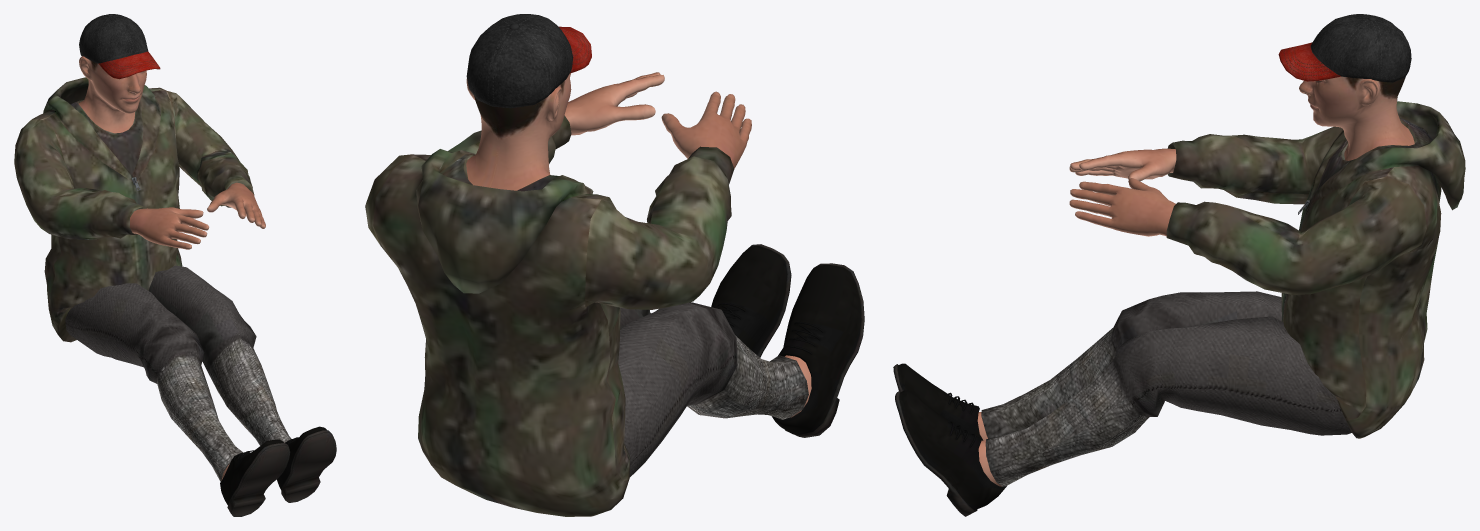
Rendered from dancarino.glb.
3 renders of one model, left to right at view 1: azimuth 30°, elevation 25°; view 2: azimuth 150°, elevation 25°; view 3: azimuth 270°, elevation 25°, orthographic. The views are drawn at different scales.
Visible parts, largest first — view 1: Corpo1, Corpo4, Corpo3, Corpo5, Corpo2; view 2: Corpo1, Corpo4, Corpo5, Corpo3, Corpo2; view 3: Corpo1, Corpo4, Corpo3, Corpo5, Corpo2.
Part boxes in pixels (x1,y1,x2,y2): Corpo1: (14, 77, 254, 342); Corpo4: (65, 265, 291, 481); Corpo3: (78, 56, 265, 480); Corpo5: (220, 426, 336, 516); Corpo2: (79, 14, 160, 79); Corpo1: (365, 115, 734, 516); Corpo4: (618, 302, 808, 477); Corpo5: (711, 244, 864, 437); Corpo3: (466, 72, 811, 417); Corpo2: (466, 14, 591, 108); Corpo1: (1166, 101, 1465, 438); Corpo4: (981, 291, 1351, 486); Corpo3: (977, 76, 1414, 486); Corpo5: (893, 363, 1006, 516); Corpo2: (1278, 14, 1411, 82).
Bounding box in the file's own units: 0.6117 × 1.11 × 1.2.
Materials: 2 (2 with a texture image).
